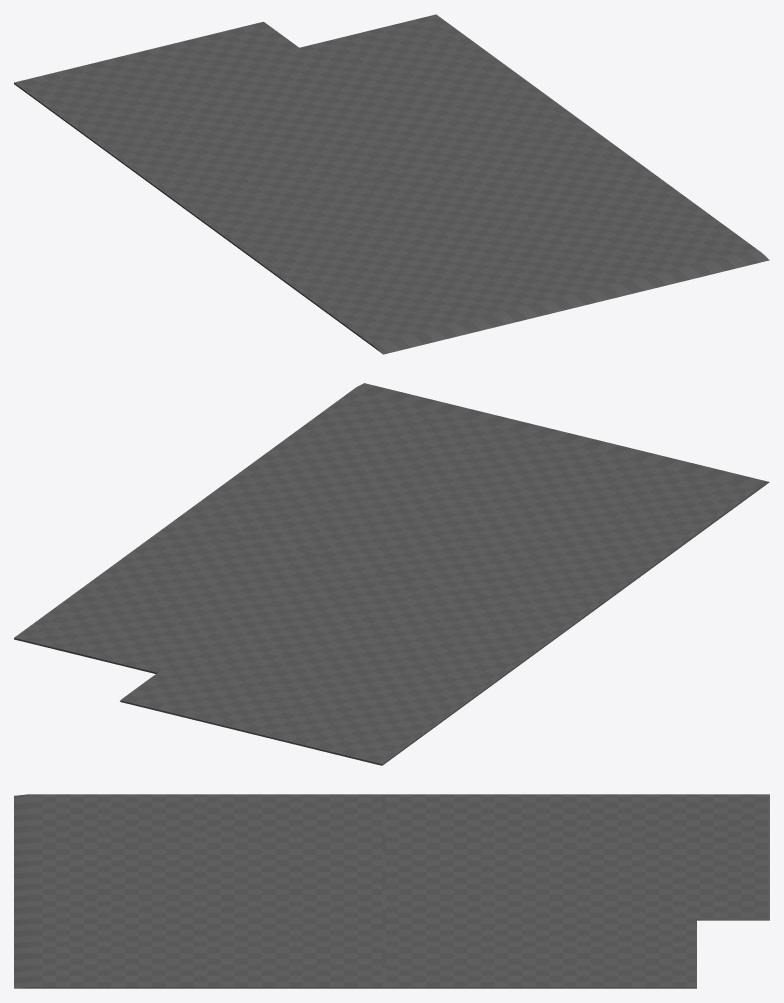
The model's file is SM_Floor_01.glb.
3 renders of one model, top to bottom at view 1: azimuth 30°, elevation 25°; view 2: azimuth 150°, elevation 25°; view 3: azimuth 270°, elevation 25°, orthographic. The views are drawn at different scales.
Visible parts, largest first — view 1: SM_Floor_01; view 2: SM_Floor_01; view 3: SM_Floor_01.
Boxes of the visible parts, left/top/right/bottom form: SM_Floor_01: left=14, top=14, right=769, bottom=354; SM_Floor_01: left=14, top=383, right=769, bottom=765; SM_Floor_01: left=14, top=794, right=769, bottom=988.
Bounding box in the file's own units: 1630 × 6.53 × 2699.
Materials: 1 (1 with a texture image).
